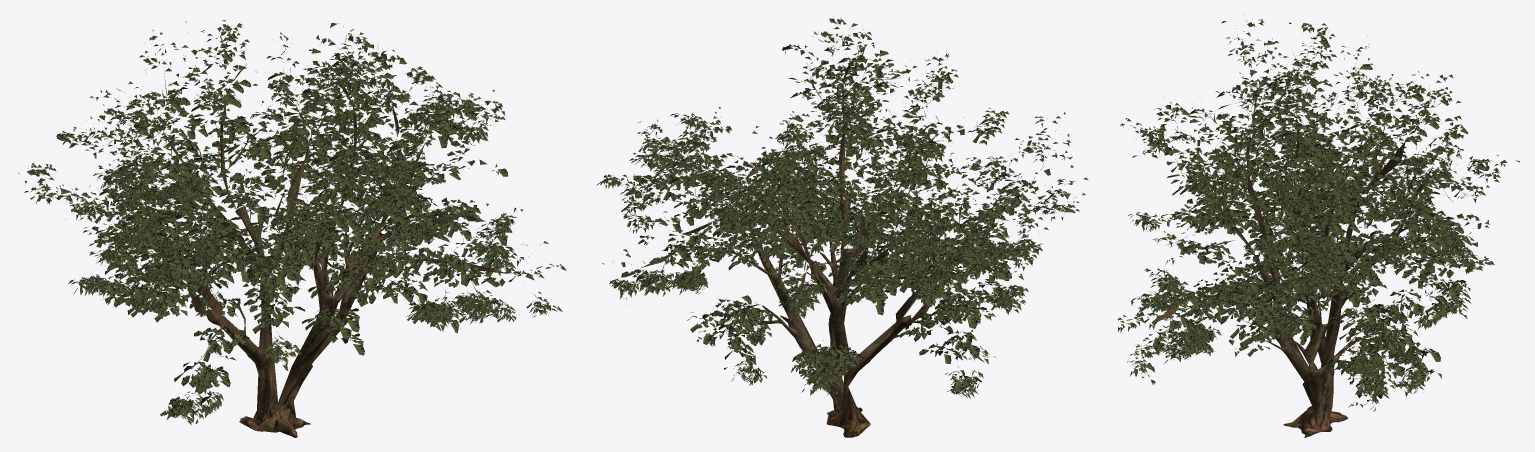
Rendered from tree-flowering.glb.
3 renders of one model, left to right at view 1: azimuth 30°, elevation 25°; view 2: azimuth 150°, elevation 25°; view 3: azimuth 270°, elevation 25°, orthographic. The views are drawn at different scales.
Visible parts, largest first — view 1: jacaranda_tree_LOD0; view 2: jacaranda_tree_LOD0; view 3: jacaranda_tree_LOD0.
Boxes of the visible parts, x1=… form: jacaranda_tree_LOD0: x1=18, y1=20, x2=566, y2=437; jacaranda_tree_LOD0: x1=596, y1=18, x2=1088, y2=437; jacaranda_tree_LOD0: x1=1117, y1=14, x2=1519, y2=437.
Bounding box in the file's own units: 6.76 × 5.46 × 5.33.
3 materials, 3 textured.
